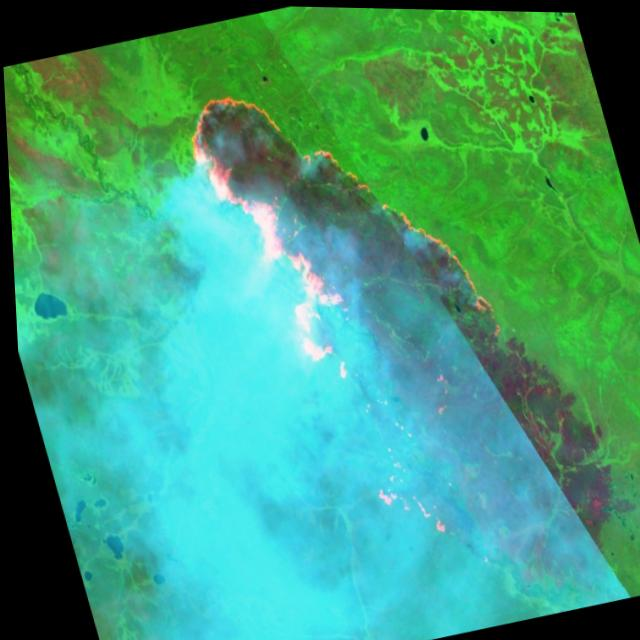fire: (165, 35, 555, 601)
